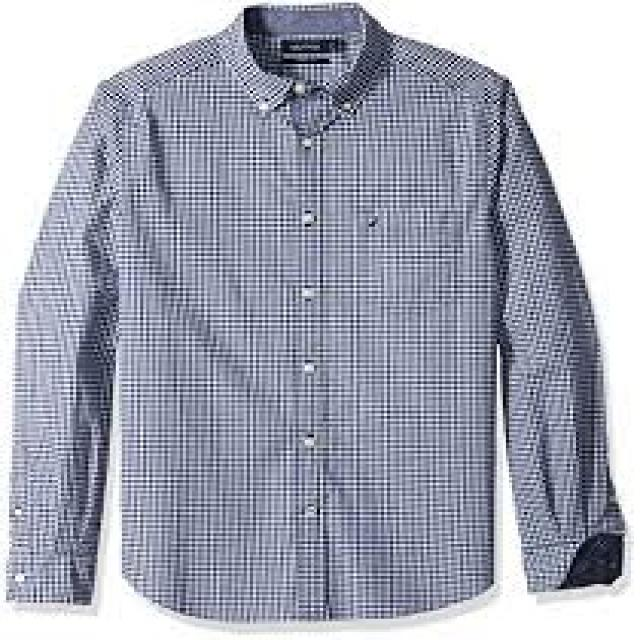plaid: (14, 0, 624, 619)
